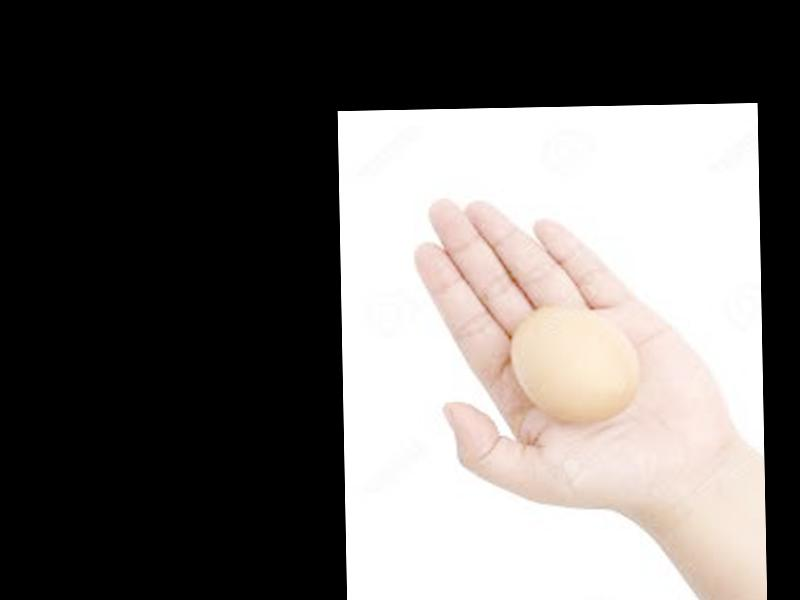Eggs: (511, 307, 640, 425)
